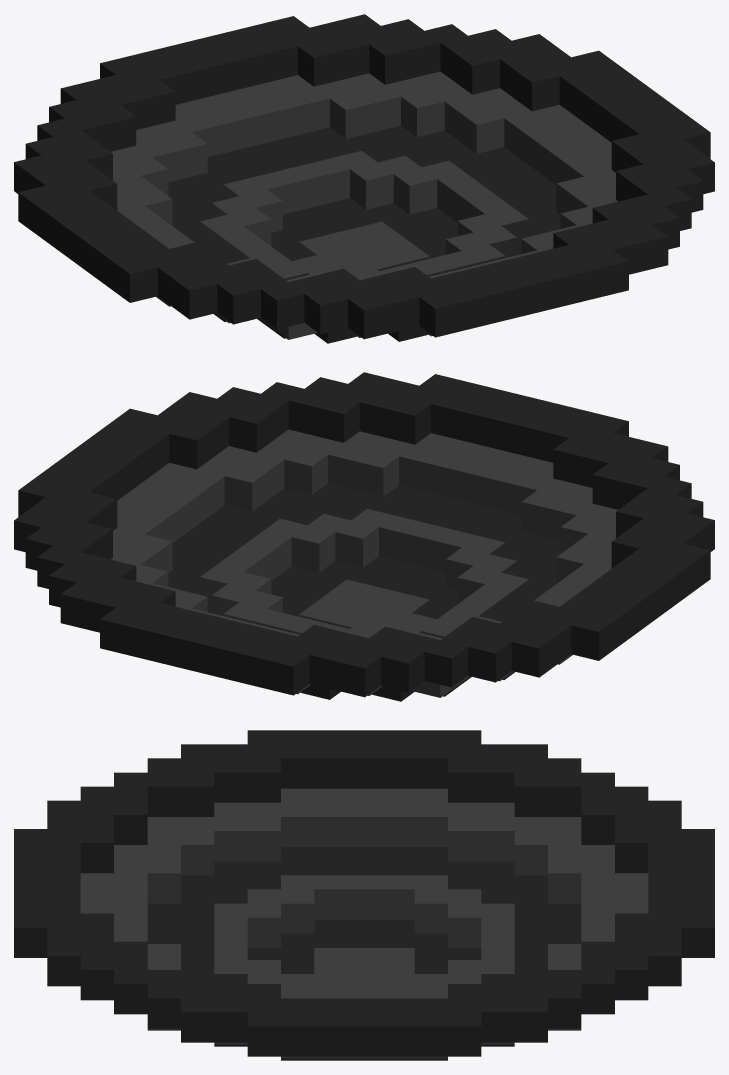
File: trampoline-2.obj
3 views of the same model, one above another, from view 1: azimuth 30°, elevation 25°; view 2: azimuth 150°, elevation 25°; view 3: azimuth 270°, elevation 25° (orthographic). The views are drawn at different scales.
Size of the model in its own units: 2.1 by 0.4 by 2.1.
Materials: 1 (1 with a texture image).
